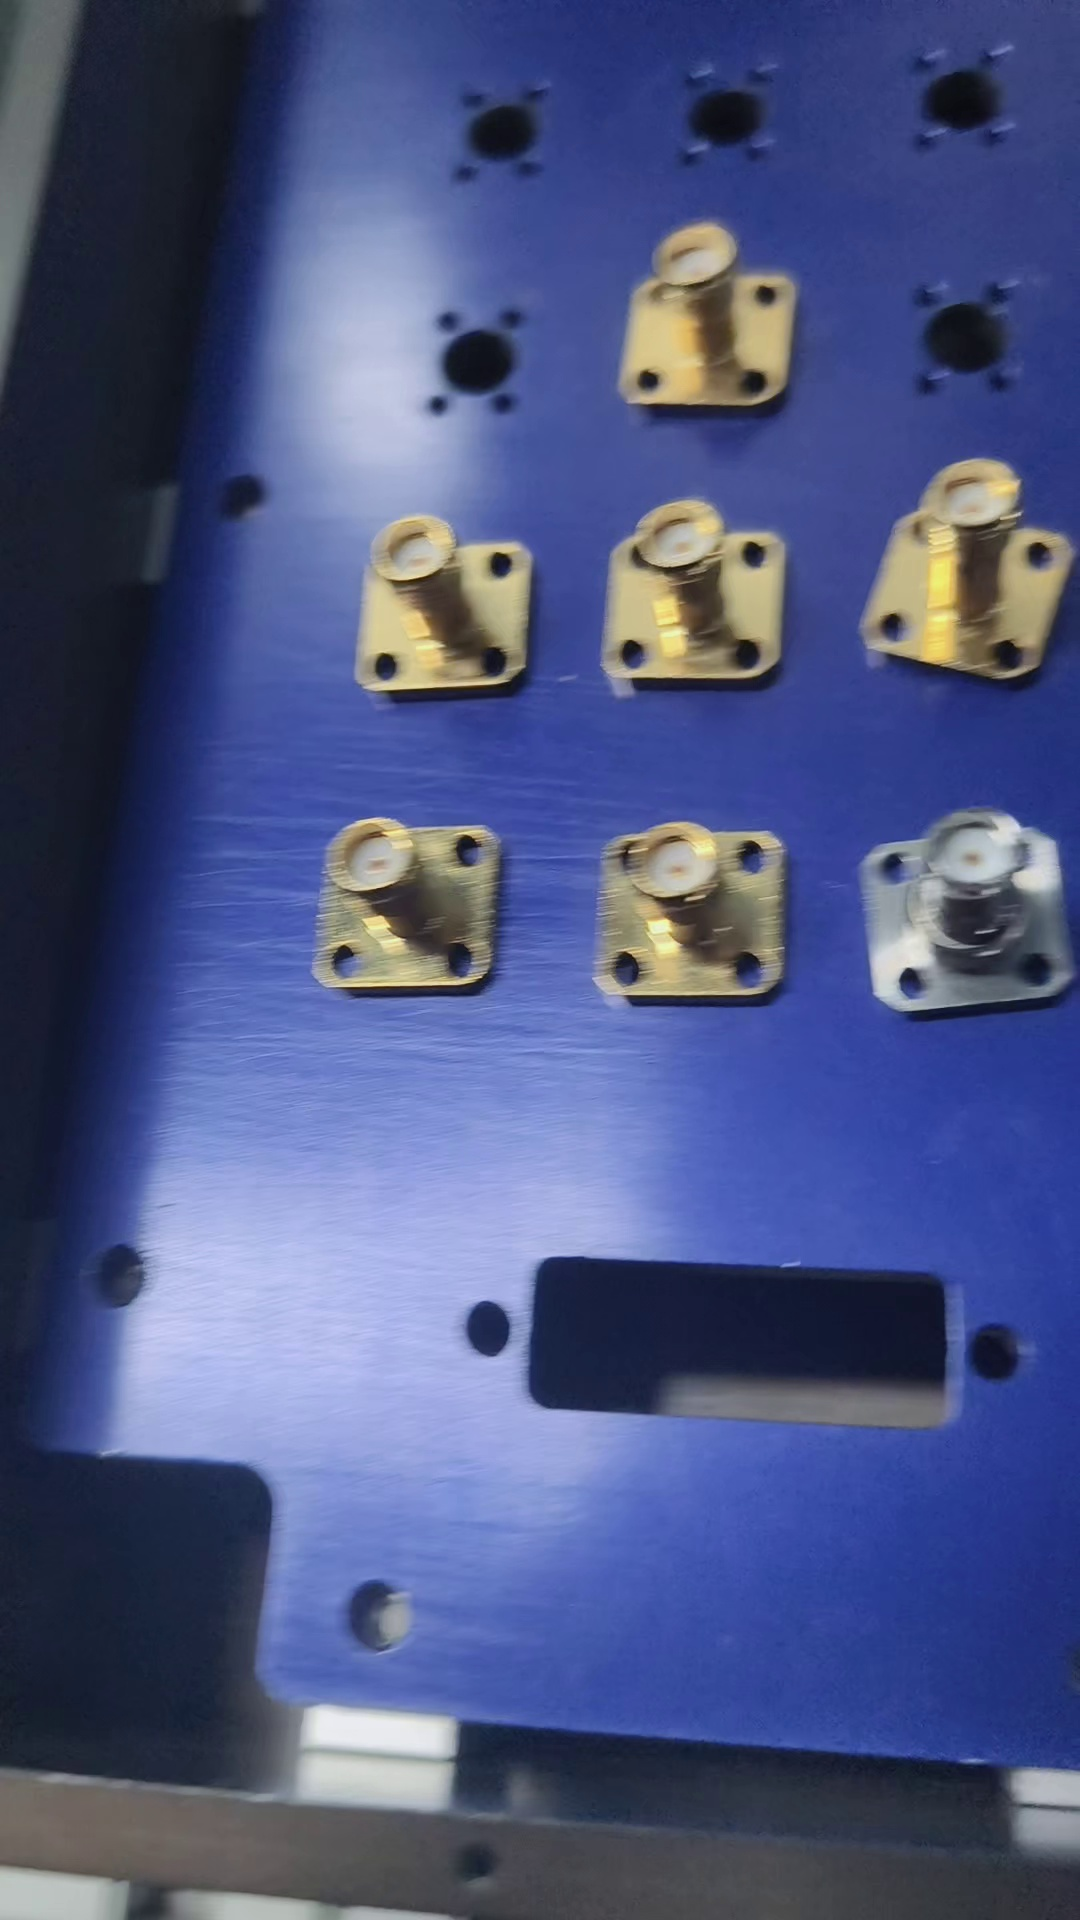SMA: (866, 458, 1080, 688), (857, 810, 1080, 1025), (591, 820, 796, 1010), (597, 495, 791, 692), (625, 220, 814, 418), (309, 818, 506, 1002), (345, 514, 537, 696)
